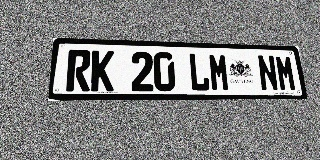0: (153, 52, 175, 91)
2: (132, 51, 153, 91)
K: (90, 50, 114, 91)
L: (188, 53, 210, 91)
M: (208, 53, 230, 91), (274, 55, 297, 91)
N: (256, 55, 279, 91)
R: (66, 50, 91, 91)
